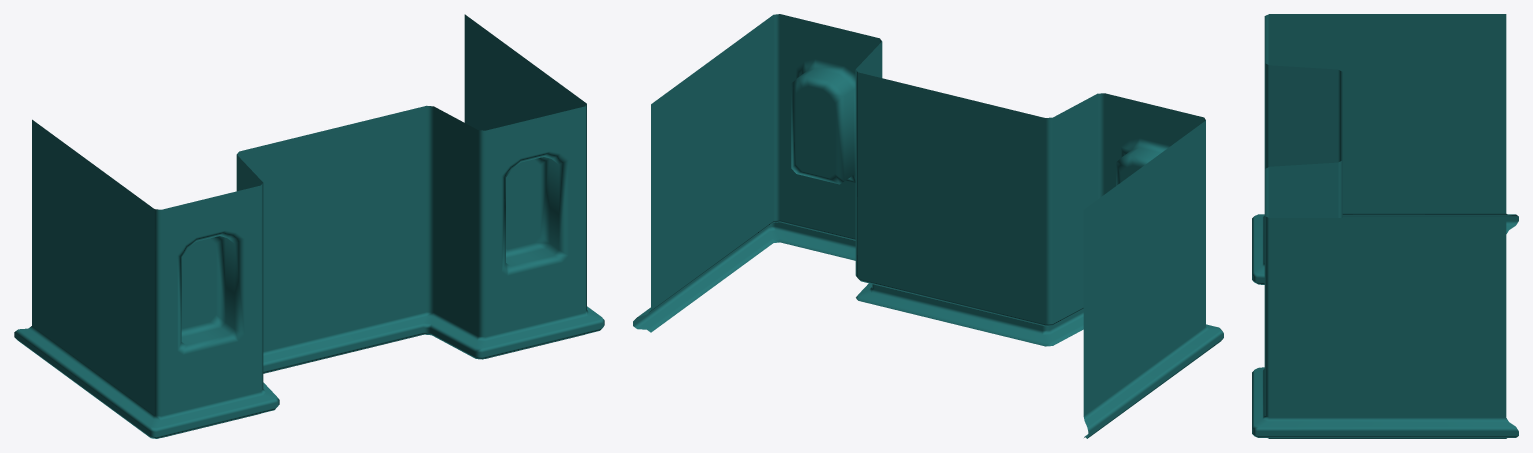
Rendered from SM_Building_Middle_03.fbx.
3 views of the same model, side by side, from view 1: azimuth 30°, elevation 25°; view 2: azimuth 150°, elevation 25°; view 3: azimuth 270°, elevation 25° (orthographic). The views are drawn at different scales.
Visible parts, largest first — view 1: Object010; view 2: Object010; view 3: Object010.
Part boxes in pixels (x1,y1,x2,y2): Object010: (14, 14, 604, 438); Object010: (633, 14, 1223, 438); Object010: (1252, 14, 1518, 438).
Bounding box in the file's own units: 631 × 303 × 331.
